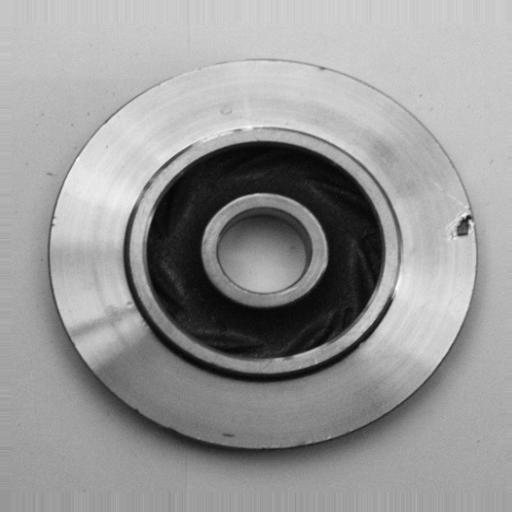crack: (438, 194, 486, 250)
scratch: (192, 116, 261, 147)
unpolished_casting: (45, 55, 480, 453)
